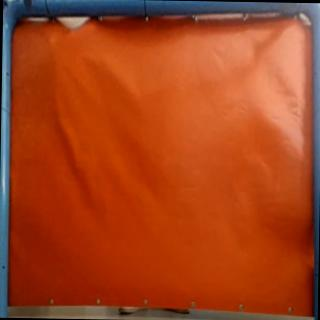Hit-hRxx: (43, 34, 59, 46)
